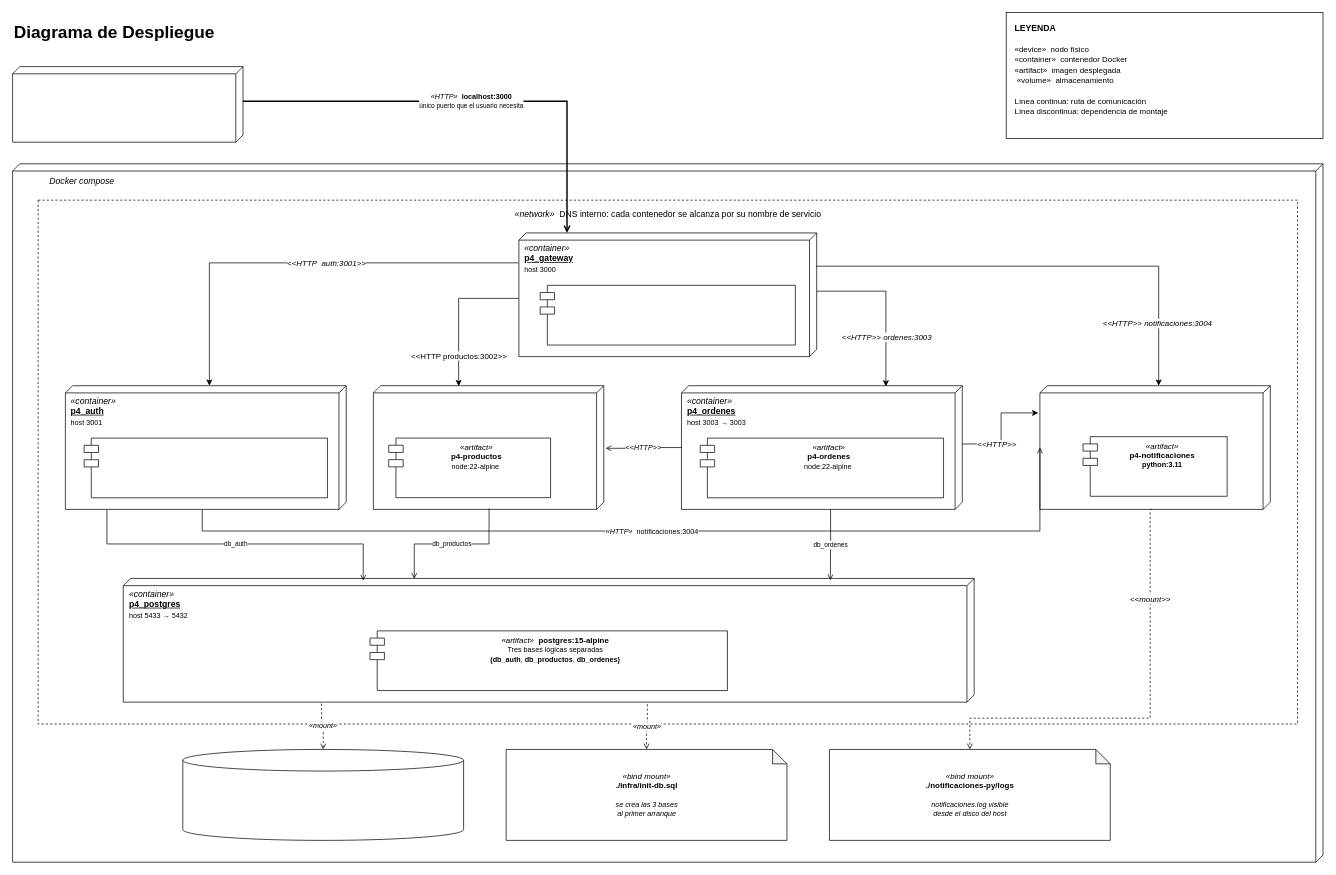
Image size: 1336x875. Some labels were removed from this diagram. The shapes that lost their labels are listed below. From the top down, each one's box as (x1, y1, x2, y2) in pixels, then its label:
(12, 66, 243, 142): «device» Cliente Postman
(539, 285, 795, 345): «artifact» p4-gateway node:22-alpine node dist/main
(373, 385, 604, 509): «container» p4_productos host 3002
(1039, 385, 1270, 509): «container» p4_notificaciones host 3004
(83, 437, 327, 498): «artifact» p4-auth node:22-alpine
(182, 749, 464, 840): «volume» datos_postgres
